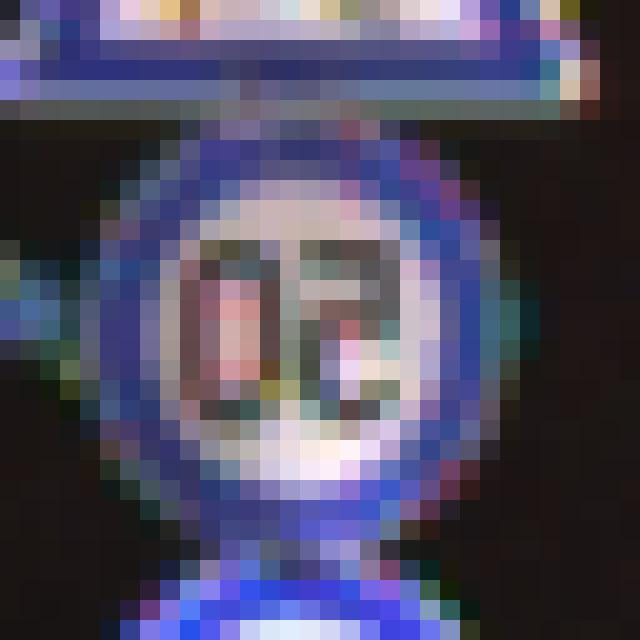SPEED LIMIT 50: (104, 160, 488, 518)
